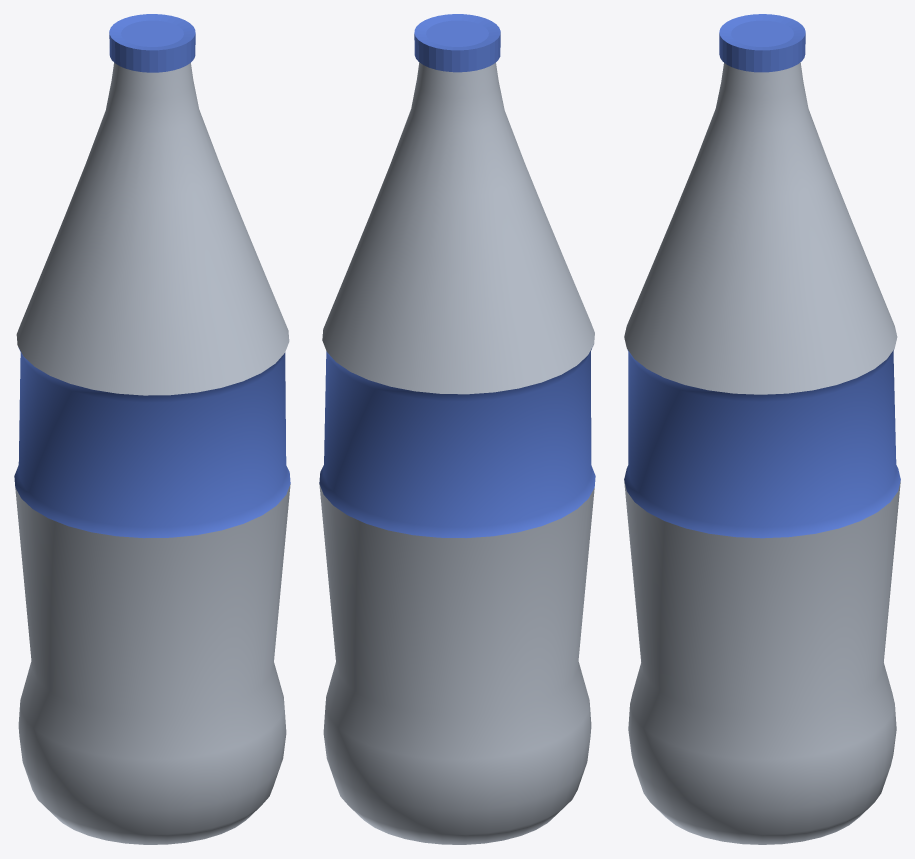
The model's file is бутылка воды.fbx.
3 views of the same model, side by side, from view 1: azimuth 30°, elevation 25°; view 2: azimuth 150°, elevation 25°; view 3: azimuth 270°, elevation 25° (orthographic).
Parts seen in each view (by area): view 1: Cylinder, Cylinder.001; view 2: Cylinder, Cylinder.001; view 3: Cylinder, Cylinder.001.
Boxes of the visible parts, box(x1,y1,x2,y2) form: Cylinder: box(15, 62, 290, 844); Cylinder.001: box(14, 14, 290, 538); Cylinder: box(319, 62, 594, 844); Cylinder.001: box(319, 14, 595, 538); Cylinder: box(624, 62, 900, 844); Cylinder.001: box(624, 14, 900, 538).
Size of the model in its own units: 245 by 752 by 245.
